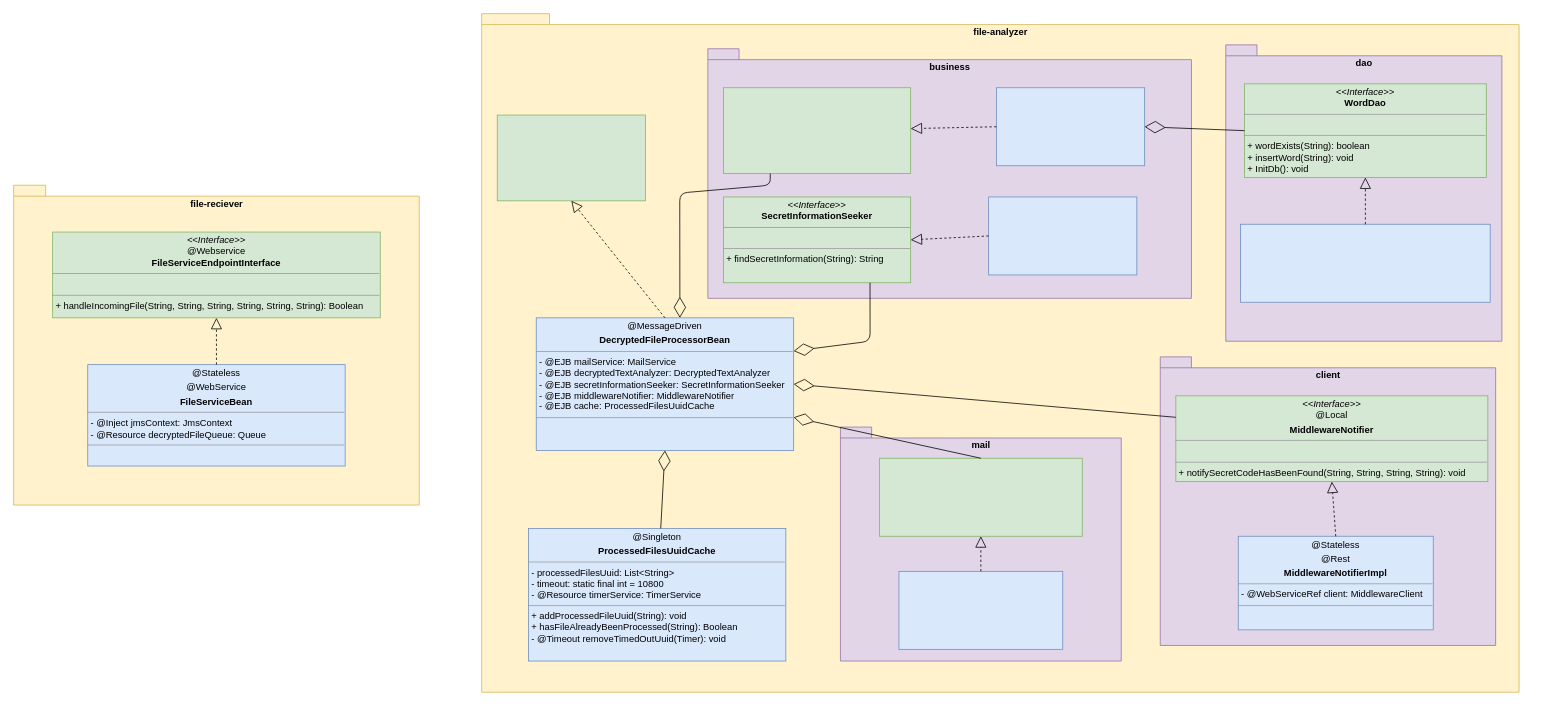
Some shapes in this 1557 by 706 pixel diagram are drawn without their labels. Each missing label, with the centre of its shape:
"<<Interface>> DecryptedTextAnalyzer + findTextValidityConfidence(String): Double" goes at point (817, 130).
"<<Interface>> javax.jms. MessageListener + onMessage(Message): void" goes at point (570, 157).
"<<Interface>> MailService + sendMail(String, String, String, String): void" goes at point (980, 496).
"@Stateless DecryptedTextAnalyzerBean - @EJB wordDao: wordDao" goes at point (1070, 126).
"@Stateless MessageServiceImpl" goes at point (980, 610).
"@Stateless SecretInformationSeekerBean - patternToRecognize: Pattern" goes at point (1062, 235).
"@Stateless WordDaoImpl - @PersistenceContext() entityManager: EntityManager" goes at point (1365, 262).
